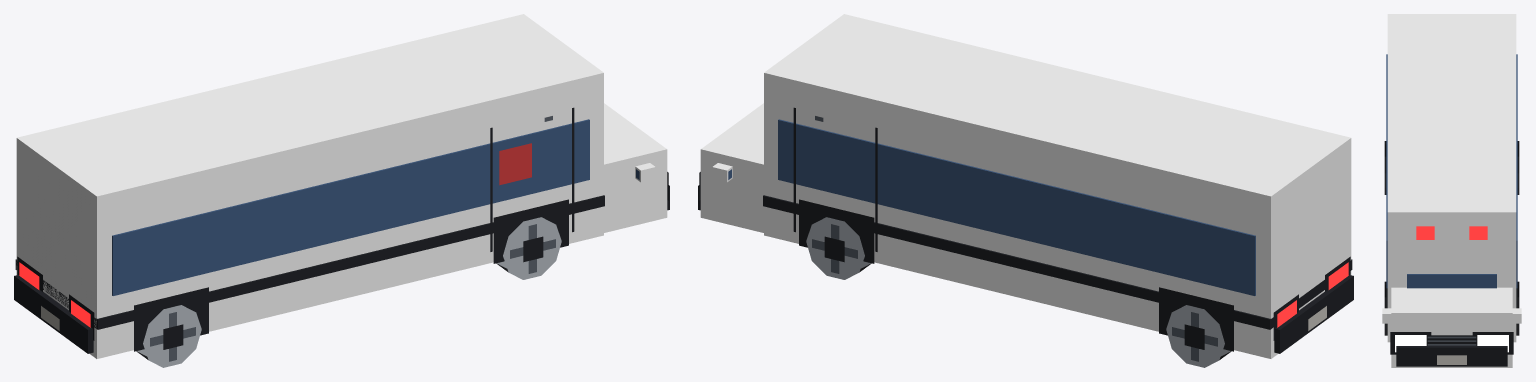
Rendered from bus_school.glb.
The picture shows the model from 3 angles, left to right: view 1: azimuth 30°, elevation 25°; view 2: azimuth 150°, elevation 25°; view 3: azimuth 270°, elevation 25°; orthographic projection. The views are drawn at different scales.
Visible parts, largest first — view 1: bus_school; view 2: bus_school; view 3: bus_school.
Boxes of the visible parts, left/top/right/bottom form: bus_school: left=14, top=14, right=669, bottom=367; bus_school: left=698, top=14, right=1353, bottom=367; bus_school: left=1382, top=14, right=1521, bottom=367.
Size of the model in its own units: 0.7156 by 0.217 by 0.184.
